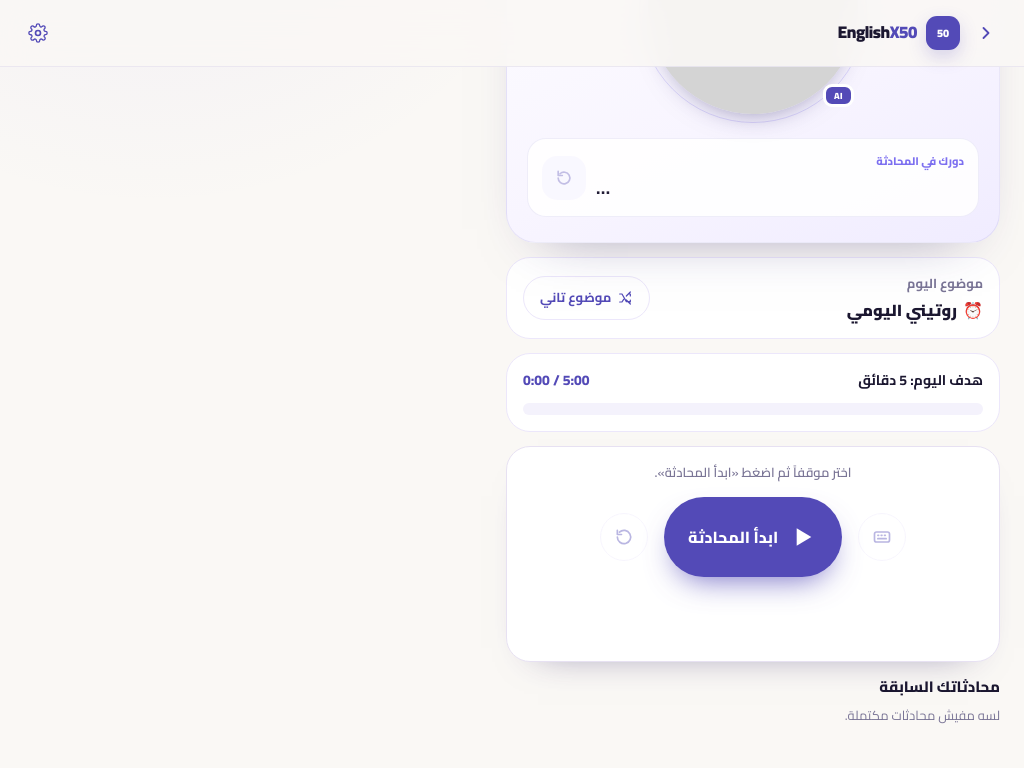
SpeakScreen › ends a conversation early from the End button, after confirming, and shows the review
The width and height of the screenshot is (1024, 768).
(page scrolled)
Click the button "ابدأ المحادثة". click: (753, 536)
box: [664, 496, 842, 576]
(page scrolled)
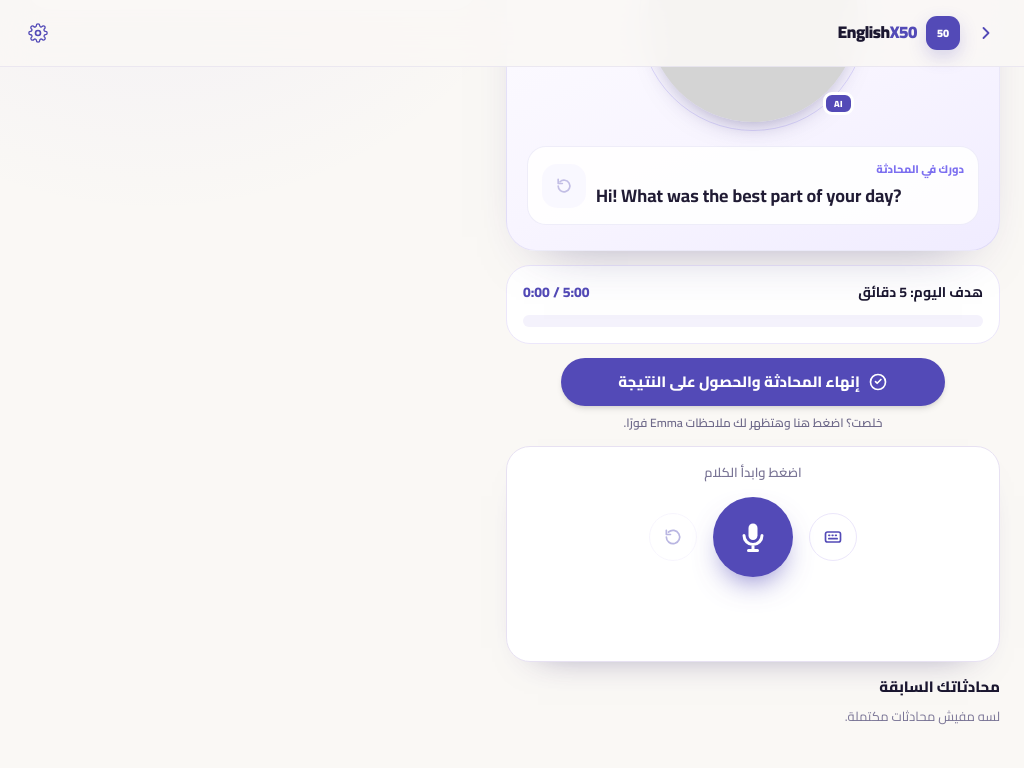
Result: the button named "ابدأ التسجيل" is shown
Result: the button named "ابدأ التسجيل" is enabled
Click the button named "ابدأ التسجيل". click: (753, 537)
box: [713, 497, 793, 577]
Wait 1200 ms
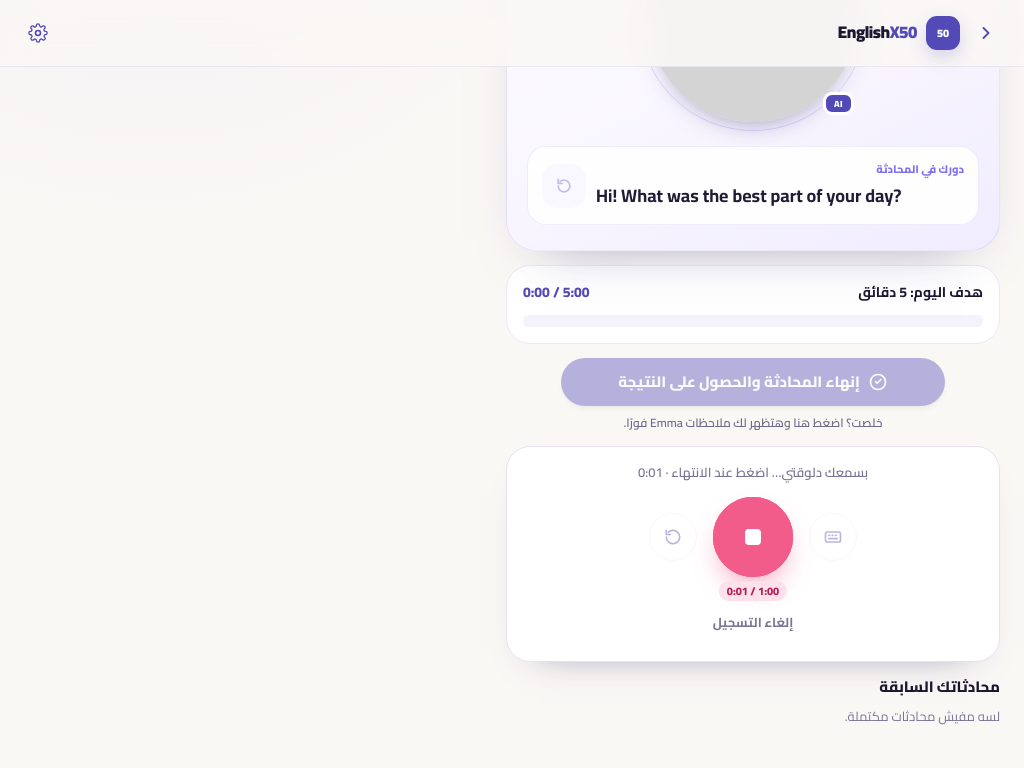
Result: the message shows "بسمعك دلوقتي" at [638, 460, 868, 484]
Click the button named "إنهاء التسجيل". click: (753, 537)
box: [713, 497, 793, 577]
(page scrolled)
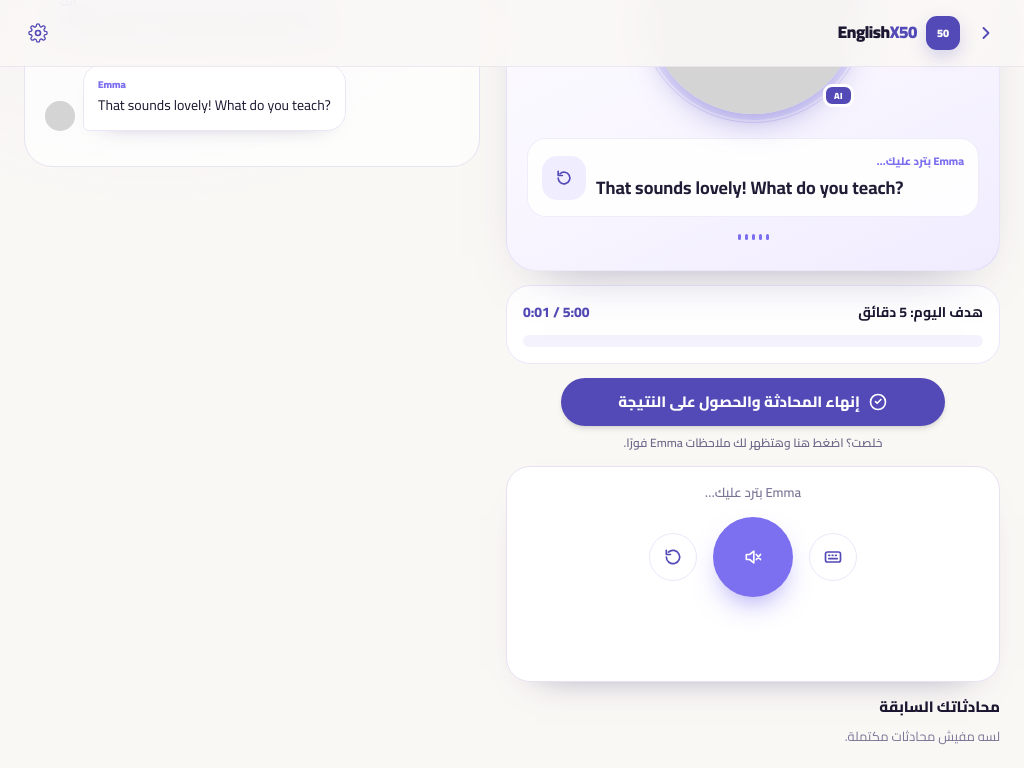
Click the button named "إيقاف الصوت". click: (753, 557)
box: [713, 517, 793, 597]
(page scrolled)
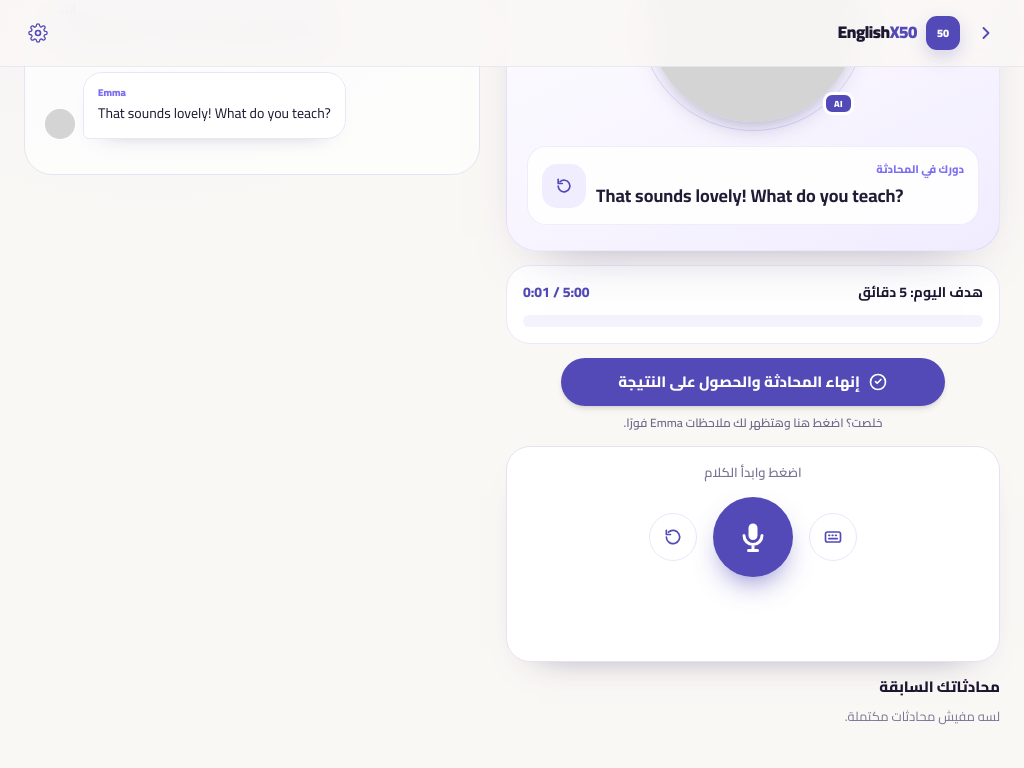
Result: the button "إنهاء المحادثة والحصول على النتيجة" is enabled
Click the button "إنهاء المحادثة والحصول على النتيجة". click: (753, 382)
box: [561, 358, 945, 406]
(page scrolled)
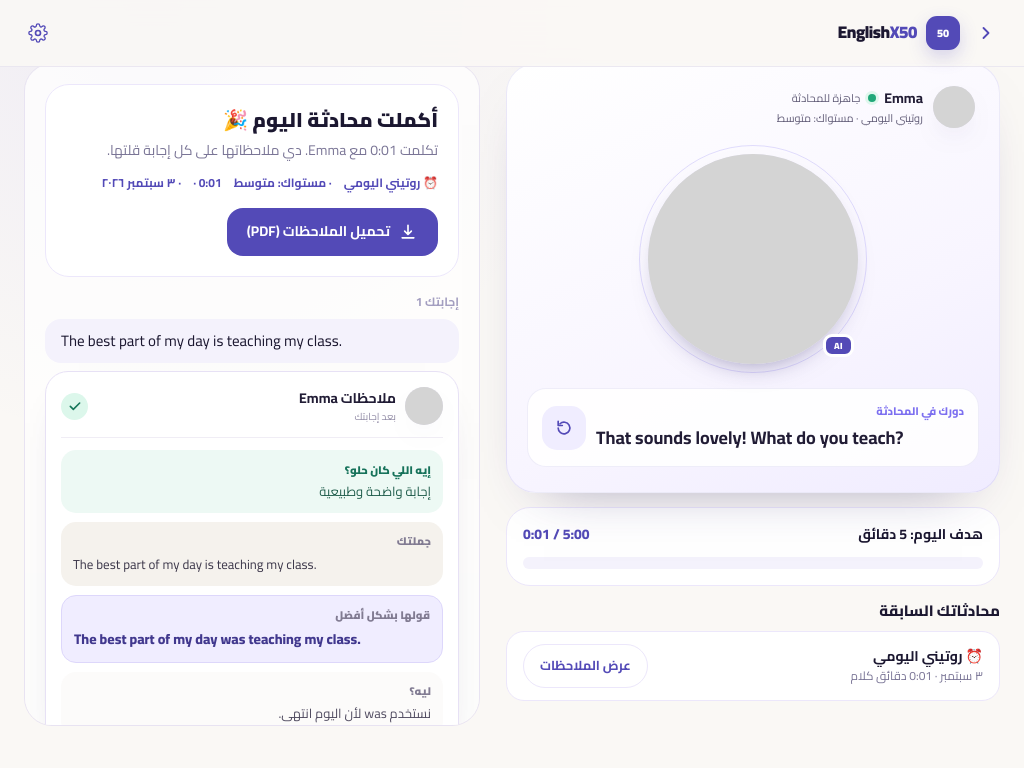
Result: the heading "أكملت محادثة اليوم 🎉" is shown at [223, 101, 438, 138]
